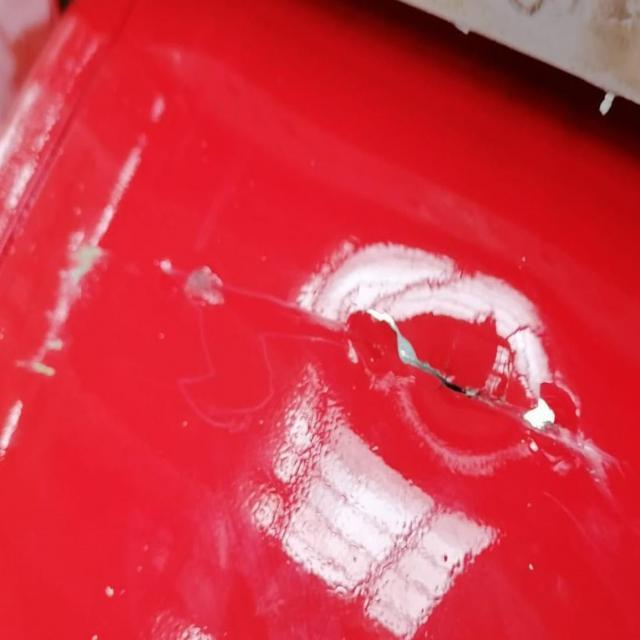crack: (199, 243, 597, 476)
